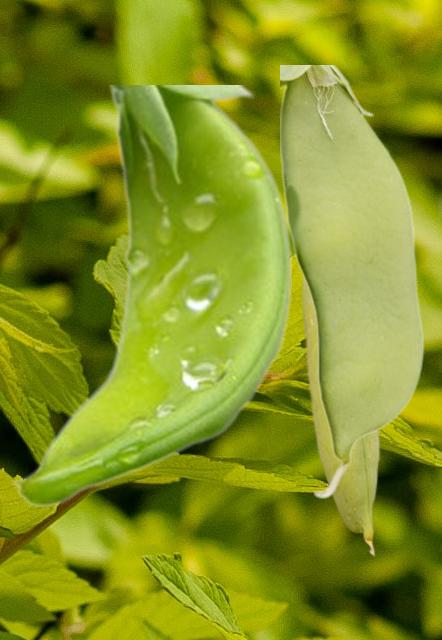pea: (11, 85, 290, 505), (280, 65, 423, 498), (301, 276, 380, 555)
